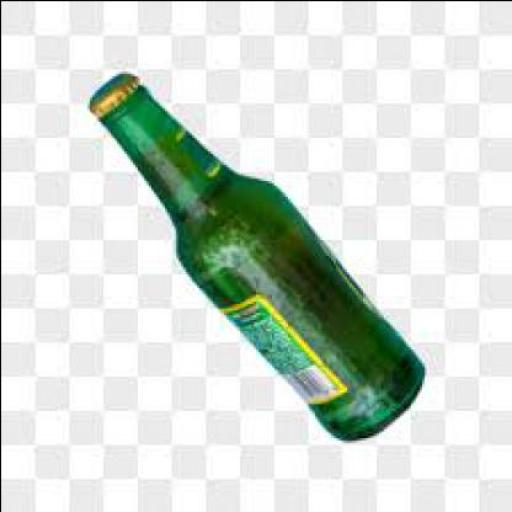glass: (96, 91, 423, 443)
metal: (84, 78, 136, 120)
